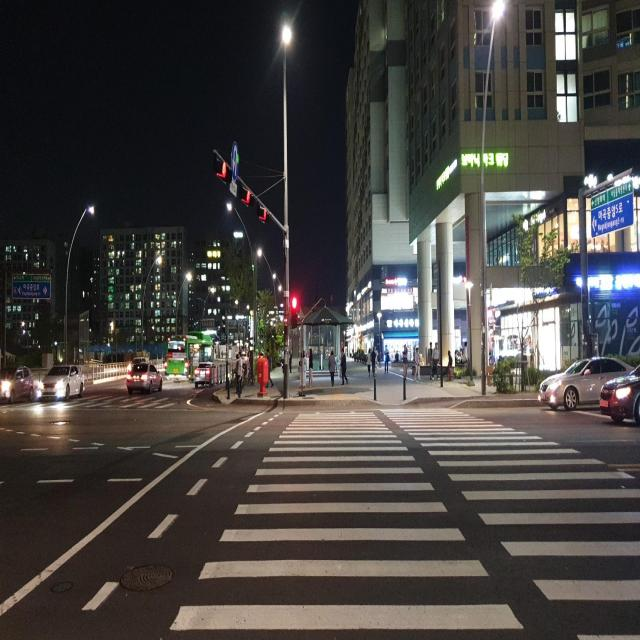횡단보도: (171, 409, 640, 639), (291, 293, 297, 326)
